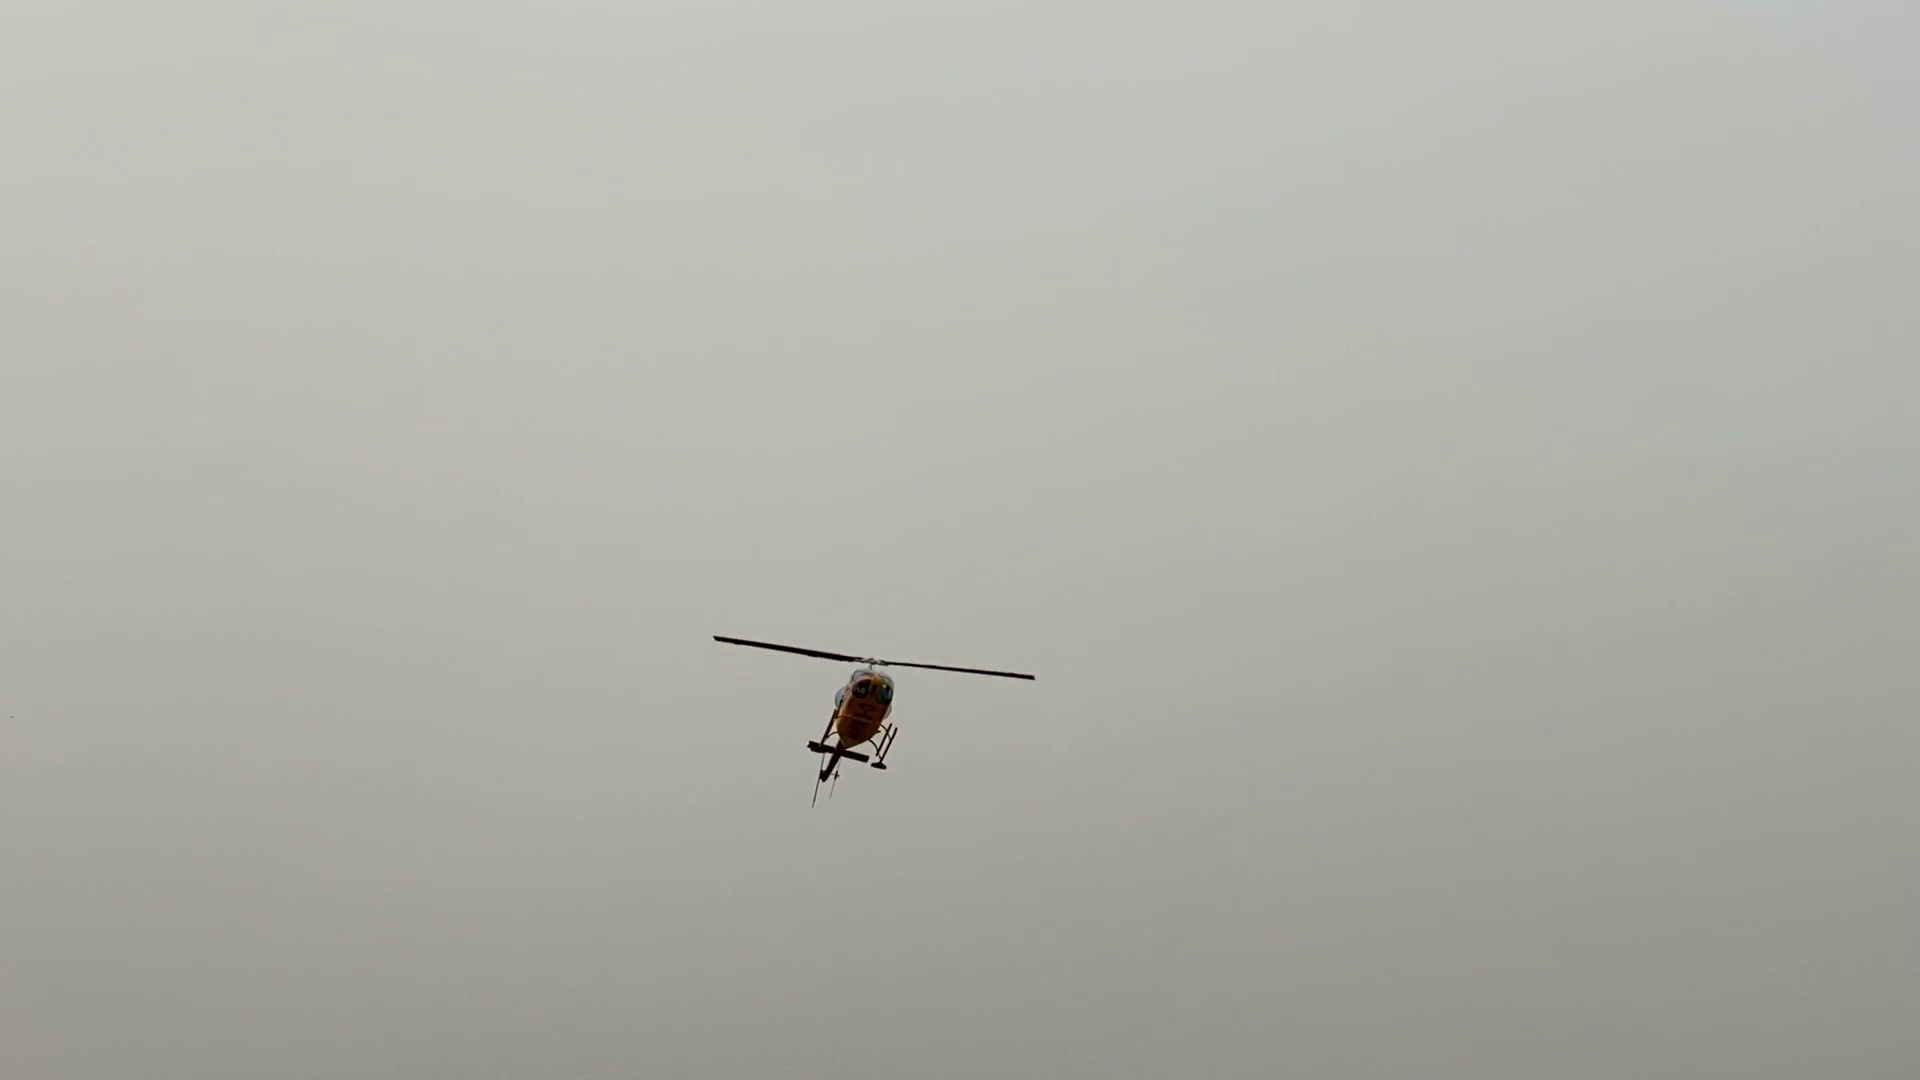heli: (711, 629, 1038, 781)
